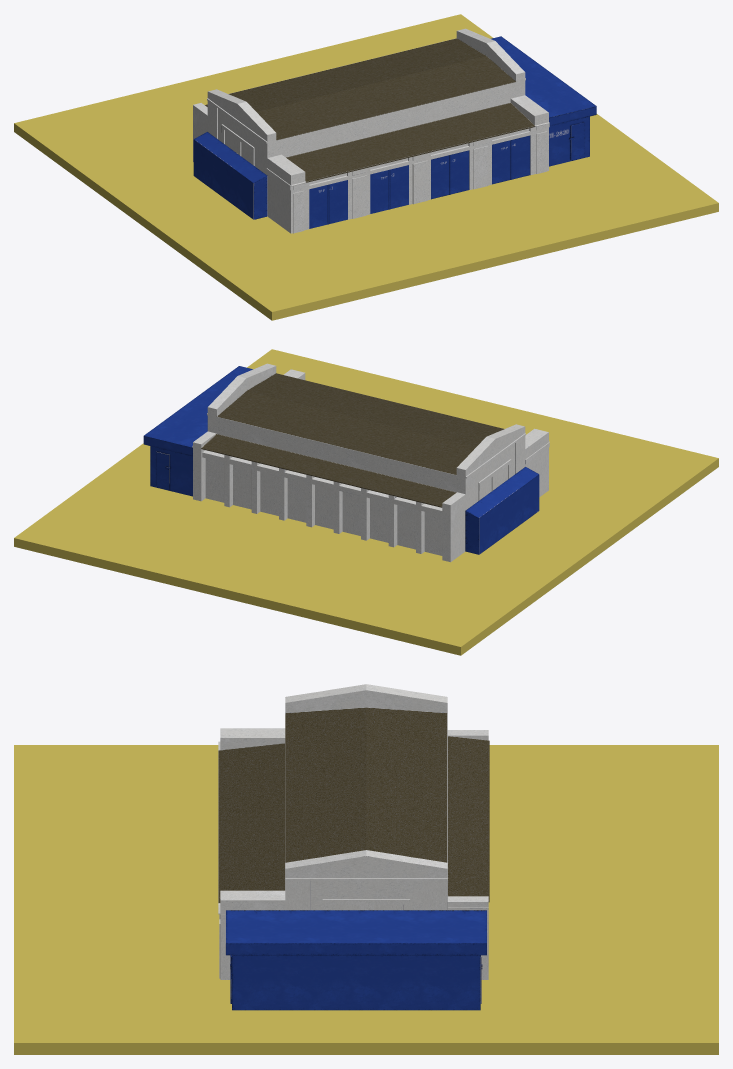
3 views of the same model, one above another, from view 1: azimuth 30°, elevation 25°; view 2: azimuth 150°, elevation 25°; view 3: azimuth 270°, elevation 25° (orthographic). The views are drawn at different scales.
Visible parts, largest first — view 1: Cube.031, Cube, Cube.004, Cube.003; view 2: Cube.031, Cube, Cube.003; view 3: Cube.031, Cube, Cube.003.
Part boxes in pixels (left/top/right/bottom): Cube.031: left=14, top=14, right=718, bottom=320; Cube: left=193, top=28, right=584, bottom=233; Cube.004: left=309, top=135, right=530, bottom=228; Cube.003: left=491, top=36, right=596, bottom=166; Cube.031: left=14, top=349, right=718, bottom=655; Cube: left=156, top=363, right=549, bottom=562; Cube.003: left=143, top=366, right=252, bottom=496; Cube.031: left=14, top=745, right=718, bottom=1054; Cube: left=218, top=684, right=489, bottom=1003; Cube.003: left=225, top=910, right=486, bottom=1010.
Size of the model in its own units: 20.31 by 4.31 by 20.31.
4 materials, 3 textured.
